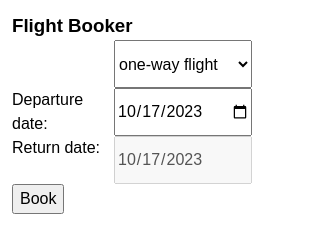
Test: FlightBooker › should disable book button
Step 1. Select "return flight" in the dropdown → (183, 64), box [114, 40, 252, 88]
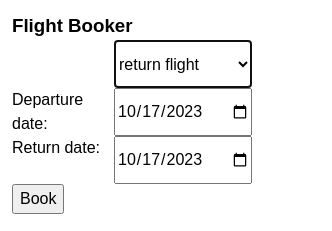
Step 2. Clear the date field labelled "Departure date:" → (183, 112), box [114, 88, 252, 136]
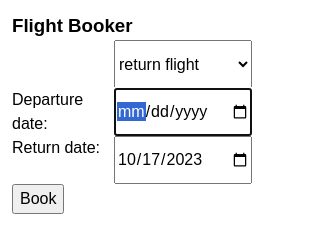
Step 3. Clear the date field labelled "Return date:" → (183, 160), box [114, 136, 252, 184]
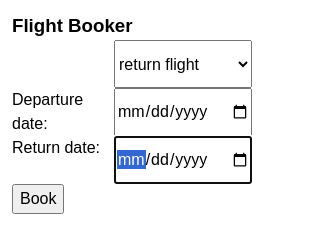
Step 4. Type "2021-01-02" into the date field labelled "Departure date:" → (183, 112), box [114, 88, 252, 136]
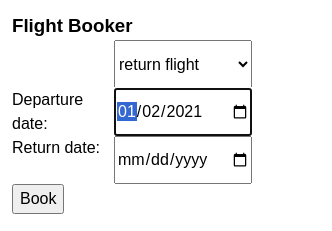
Step 5. Type "2021-01-01" into the date field labelled "Return date:" → (183, 160), box [114, 136, 252, 184]
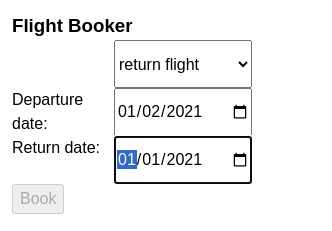
Expected: the button "Book" is disabled, [12, 184, 64, 214]
